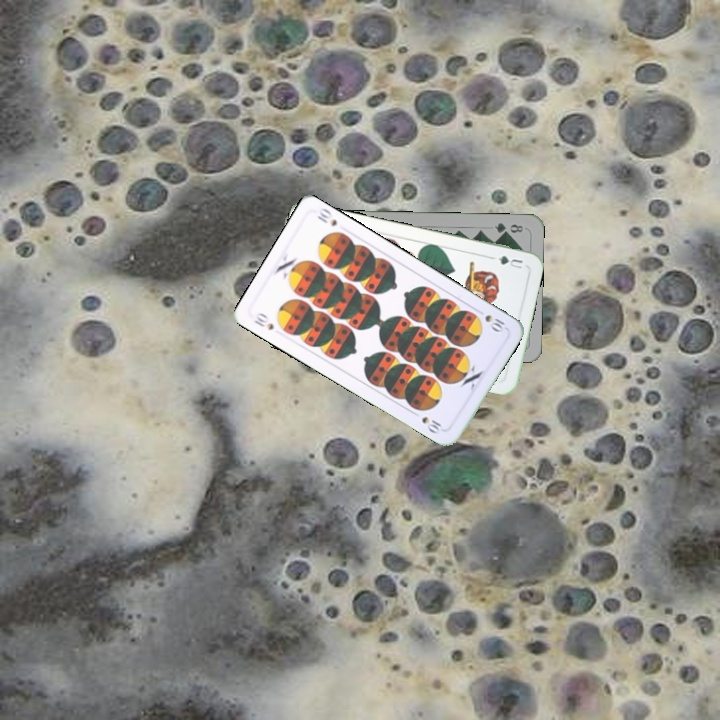G8: (490, 218, 526, 236)
GU: (494, 251, 525, 271)
S10: (472, 305, 509, 335), (250, 308, 276, 333)
